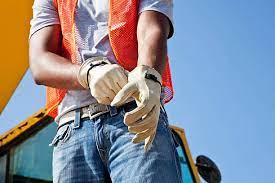gloves: (78, 60, 179, 143)
